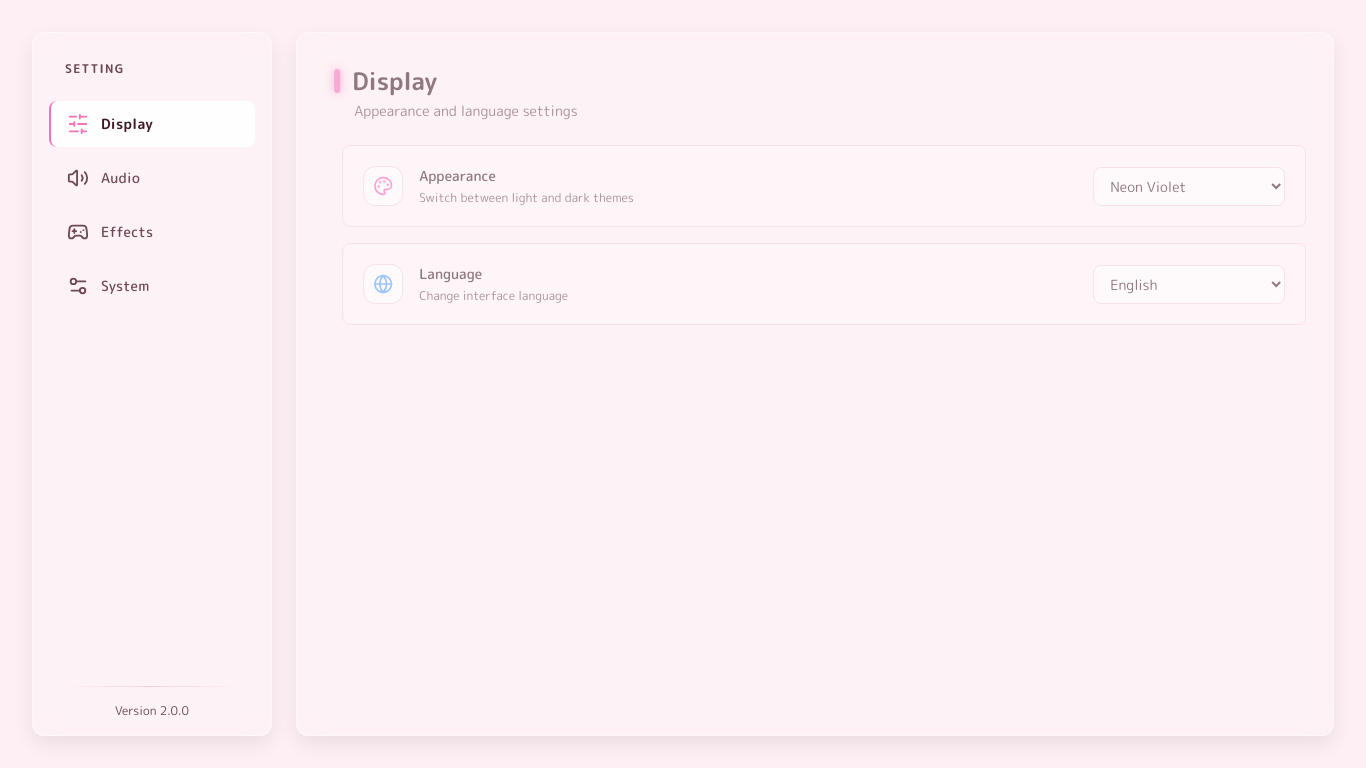
SettingsPage › shows Sakura and Custom Cursor toggles on Game tab
Click the button "Effects".
click(152, 232)  # box top-left (49, 209), bottom-right (255, 255)
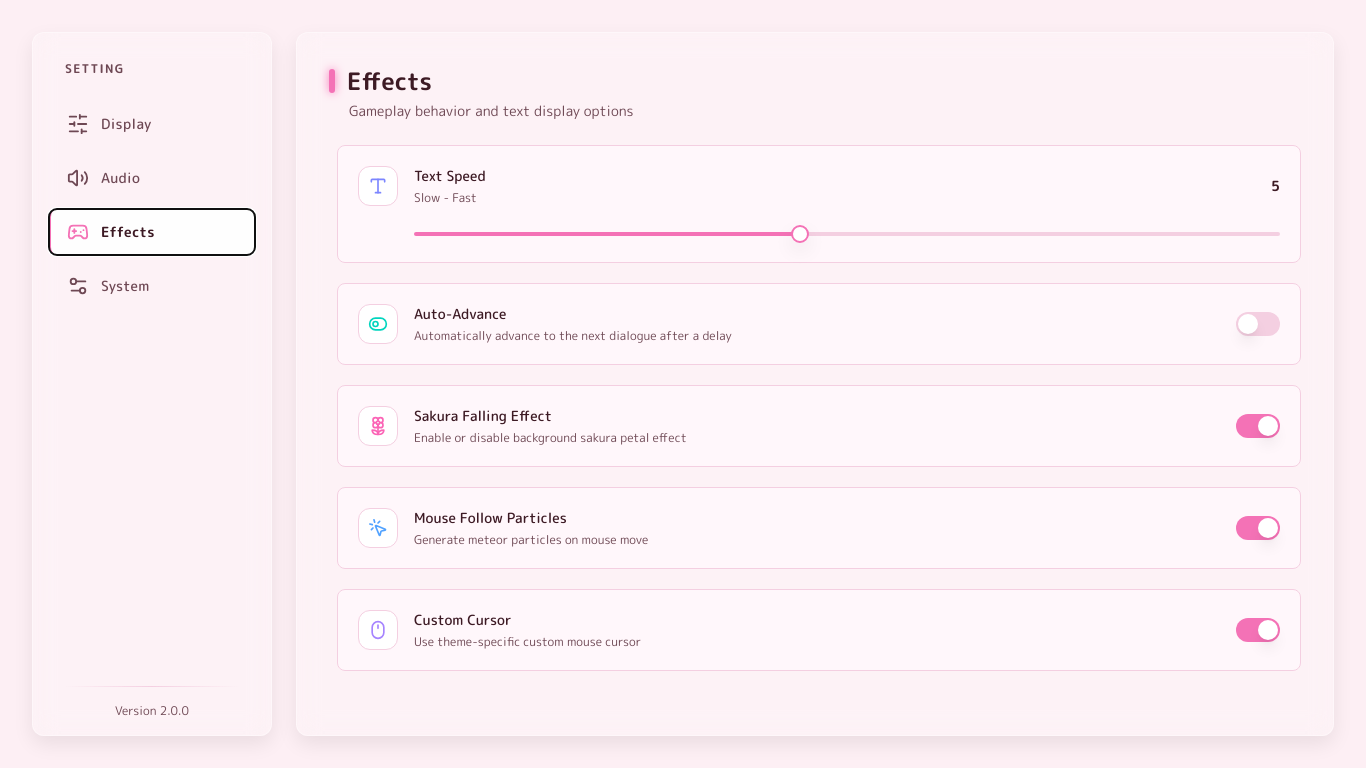
Check: the heading "Sakura Falling Effect" is shown, box top-left (414, 406), bottom-right (552, 425)
Check: the heading "Custom Cursor" is shown, box top-left (414, 610), bottom-right (512, 629)
